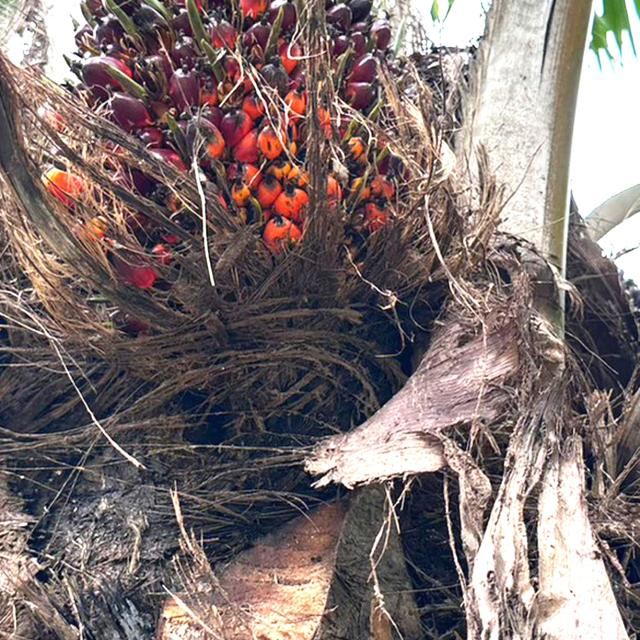ripe: (23, 0, 425, 349)
